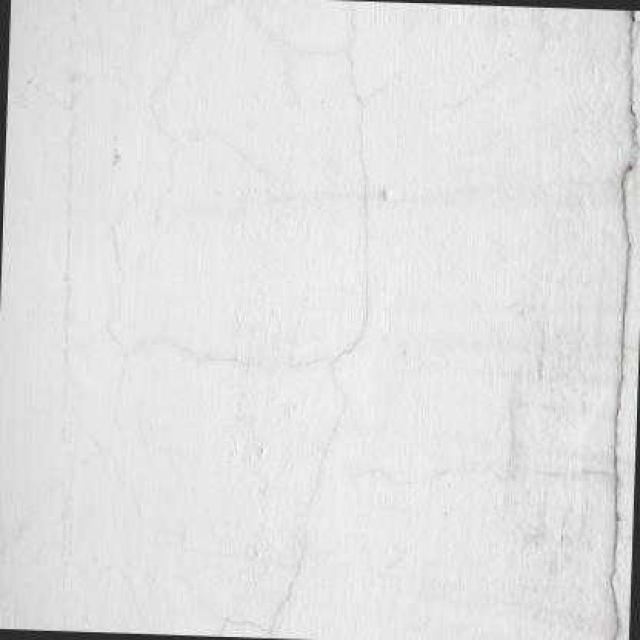D00: (610, 11, 637, 640)
